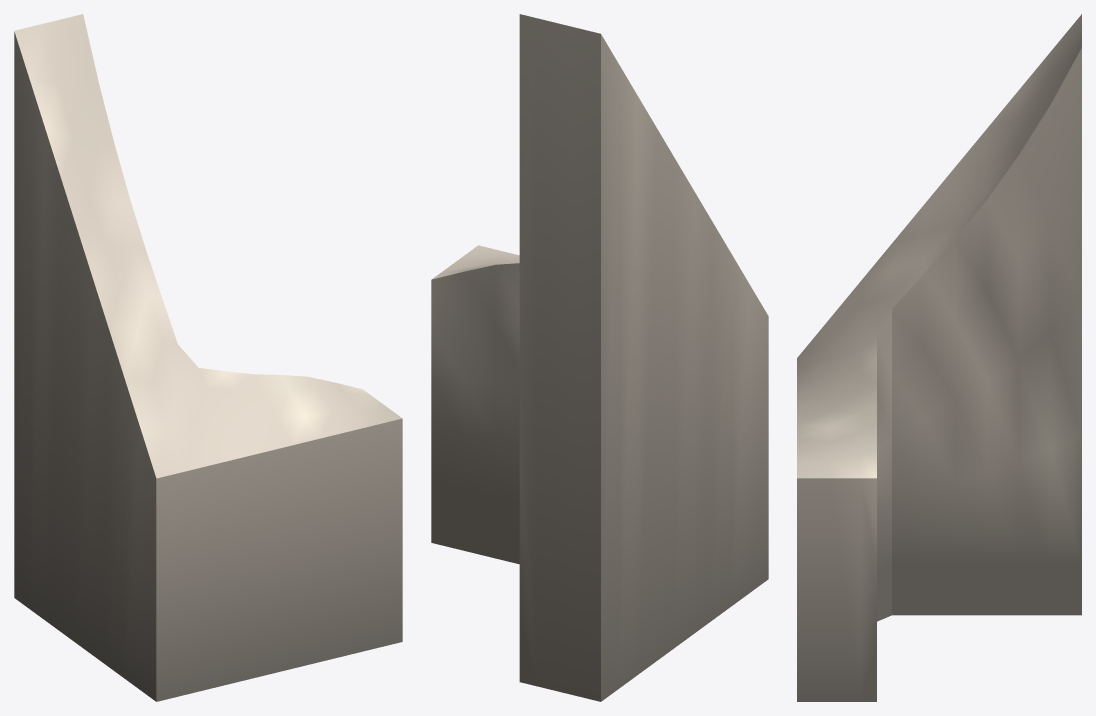
The model's file is SM_VKI_Rock_Cave_CCOF_WallE.fbx.
3 views of the same model, side by side, from view 1: azimuth 30°, elevation 25°; view 2: azimuth 150°, elevation 25°; view 3: azimuth 270°, elevation 25° (orthographic). The views are drawn at different scales.
Parts seen in each view (by area): view 1: SM_VKI_Rock_Cave_CCOF_WallE.001; view 2: SM_VKI_Rock_Cave_CCOF_WallE.001; view 3: SM_VKI_Rock_Cave_CCOF_WallE.001.
Part boxes in pixels (x1,y1,x2,y2): SM_VKI_Rock_Cave_CCOF_WallE.001: (14,14,402,701); SM_VKI_Rock_Cave_CCOF_WallE.001: (431,14,768,701); SM_VKI_Rock_Cave_CCOF_WallE.001: (797,14,1081,701).
Bounding box in the file's own units: 1.5 × 3.3 × 1.5.
